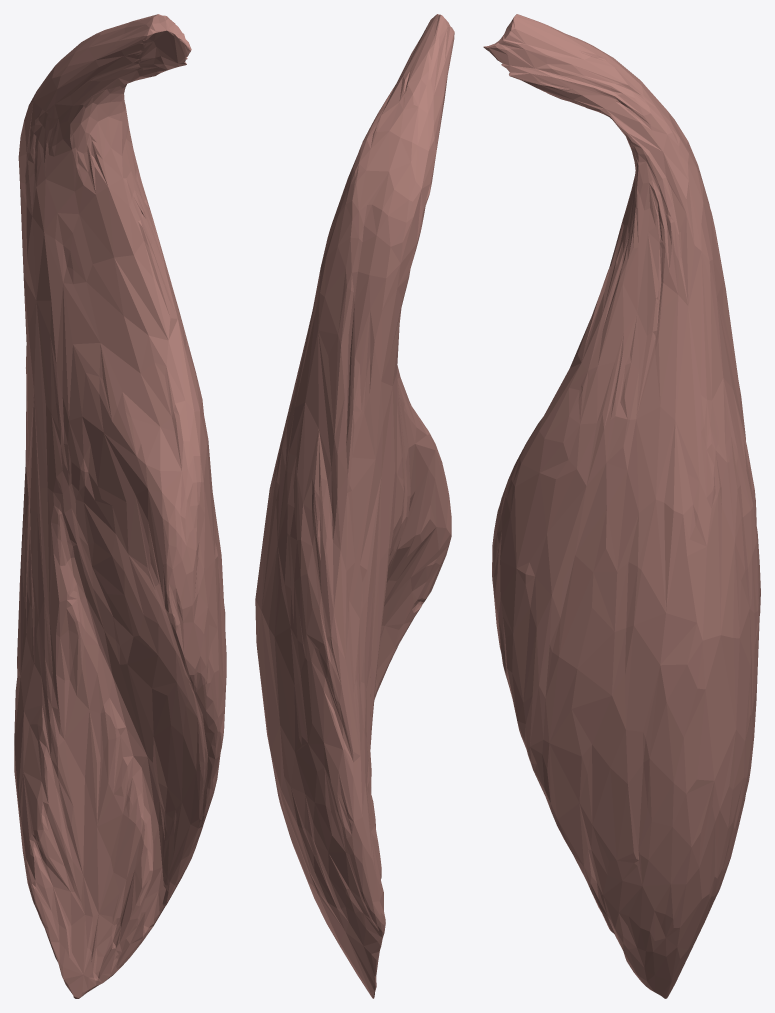
File: FMA45958.glb
3 views of the same model, side by side, from view 1: azimuth 30°, elevation 25°; view 2: azimuth 150°, elevation 25°; view 3: azimuth 270°, elevation 25° (orthographic). The views are drawn at different scales.
Visible parts, largest first — view 1: A.FMA45958; view 2: A.FMA45958; view 3: A.FMA45958.
Boxes of the visible parts, x1=… form: A.FMA45958: x1=14, y1=14, x2=226, y2=998; A.FMA45958: x1=255, y1=14, x2=454, y2=998; A.FMA45958: x1=483, y1=14, x2=760, y2=998.
Bounding box in the file's own units: 0.0525 × 0.3093 × 0.079.
